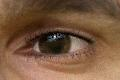eye: (41, 35, 70, 54)
